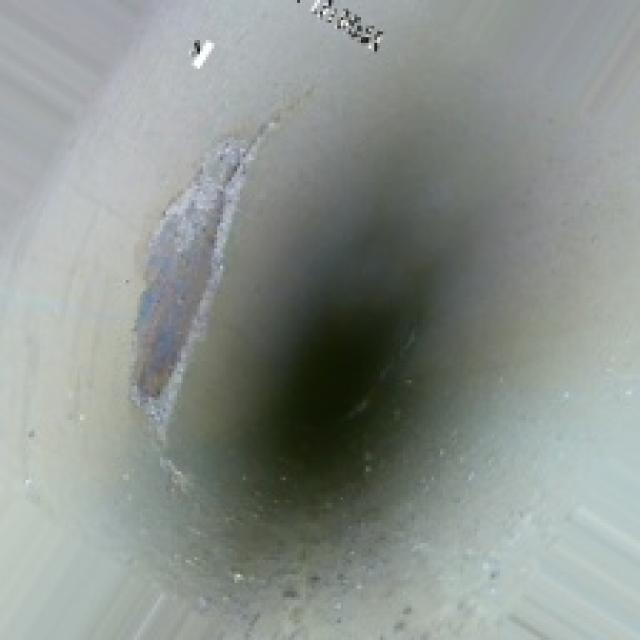pipe_surface_damage: (123, 132, 214, 448)
